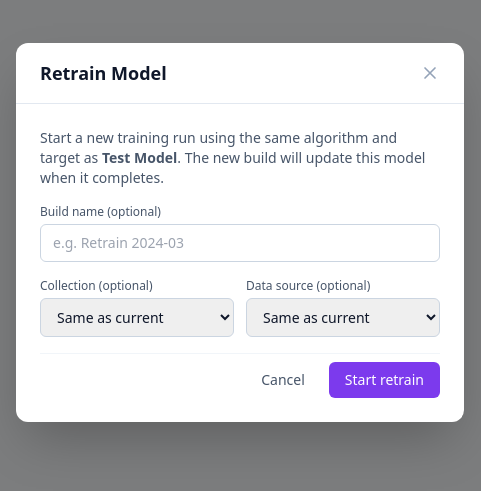
RetrainDialog › shows error when retrain API fails
Click the button "Start retrain": click(384, 380) [329, 362, 440, 398]
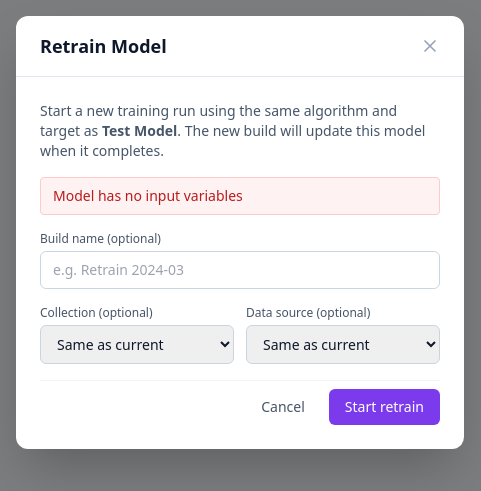
Now the text "Model has no input variables" is shown, box [40, 176, 440, 214]
